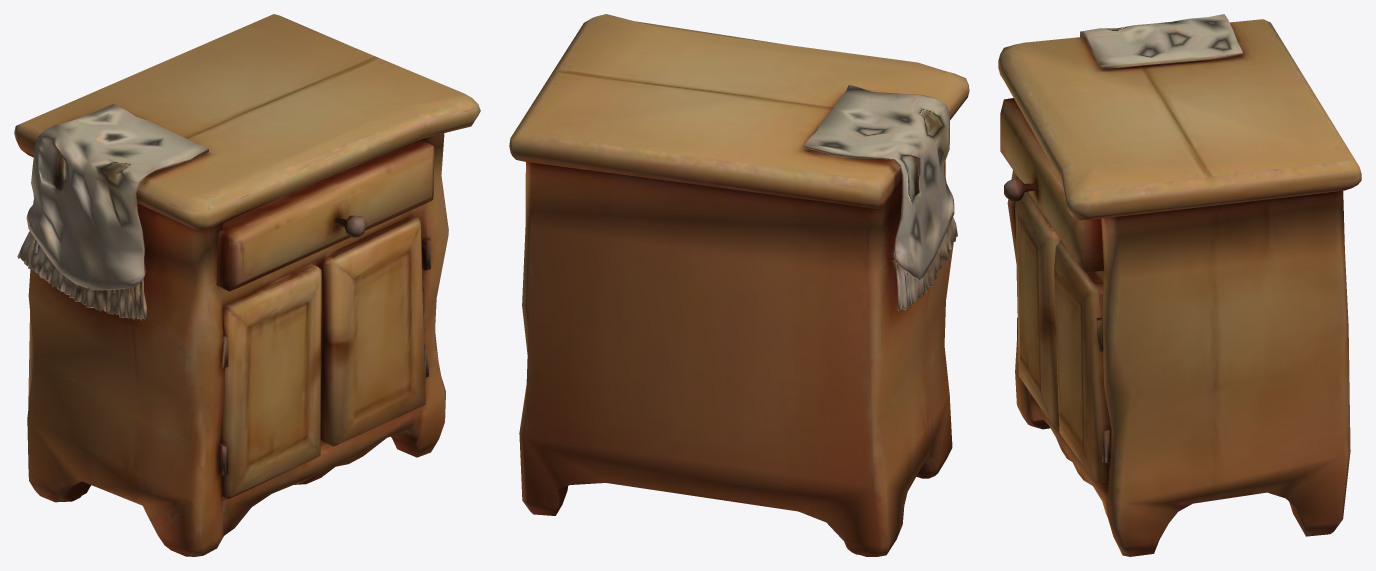
The model's file is wyn_furn_rustic_cupboard.glb.
The picture shows the model from 3 angles, left to right: view 1: azimuth 30°, elevation 25°; view 2: azimuth 150°, elevation 25°; view 3: azimuth 270°, elevation 25°; orthographic projection. The views are drawn at different scales.
Parts seen in each view (by area): view 1: tripo_node_3b21097f-851b-4924-8641-ce4cd9a3f6b4; view 2: tripo_node_3b21097f-851b-4924-8641-ce4cd9a3f6b4; view 3: tripo_node_3b21097f-851b-4924-8641-ce4cd9a3f6b4.
Boxes of the visible parts, x1,y1,x2,y2 form: tripo_node_3b21097f-851b-4924-8641-ce4cd9a3f6b4: [14, 14, 480, 556]; tripo_node_3b21097f-851b-4924-8641-ce4cd9a3f6b4: [509, 14, 969, 556]; tripo_node_3b21097f-851b-4924-8641-ce4cd9a3f6b4: [998, 14, 1361, 556].
Size of the model in its own units: 1.17 by 1.1 by 0.9582.
1 material, 1 textured.
